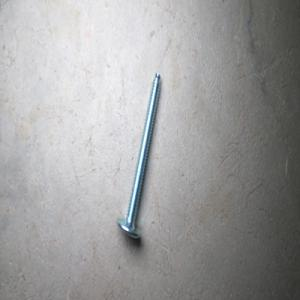Bolt: (115, 71, 161, 239)
